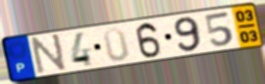0: (102, 27, 131, 63)
4: (68, 32, 97, 69)
5: (203, 10, 235, 49)
6: (134, 20, 163, 59)
9: (173, 16, 203, 54)
N: (30, 32, 68, 75)
